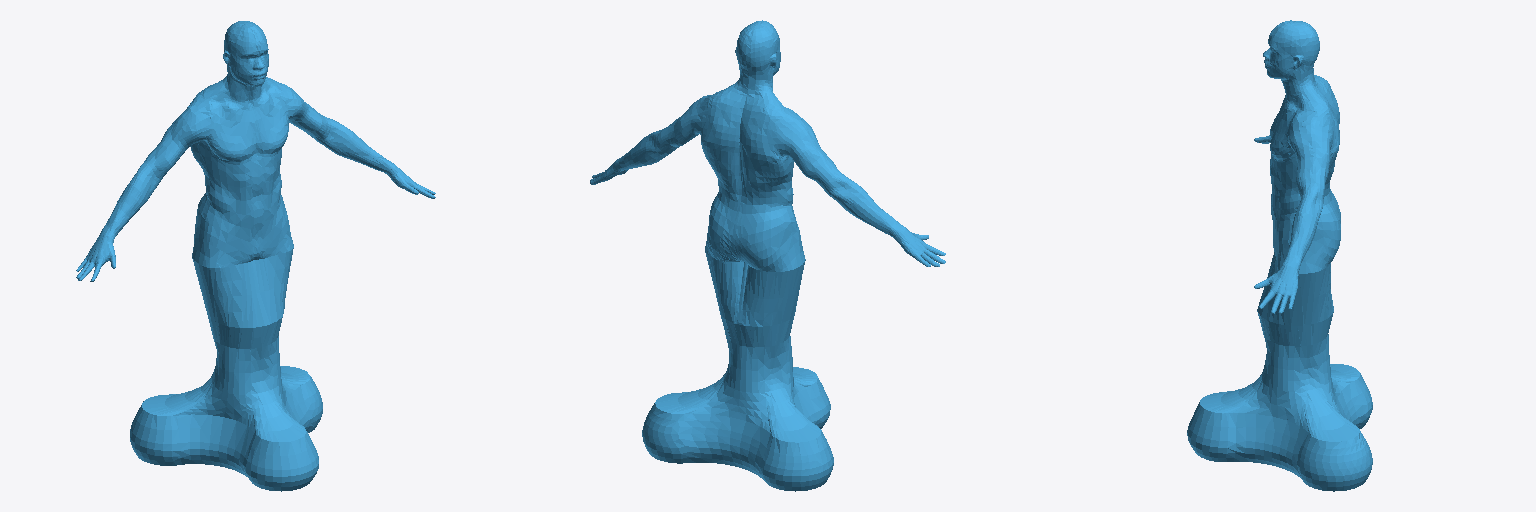
robot.urdf — mecanum_wheeled_robot:
<?xml version="1.0" ?>
<robot name="mecanum_wheeled_robot" >
  <!-- Wheels -->
  <!-- in kg-->
  <!-- Defining the colors used in this robot -->
  <material name="Black">
    <color rgba="0.0 0.0 0.0 1.0"/>
  </material>
  <material name="Red">
    <color rgba="0.8 0.0 0.0 1.0"/>
  </material>
  <material name="White">
    <color rgba="1.0 1.0 1.0 1.0"/>
  </material>
  <material name="Blue">
    <color rgba="0.0 0.0 0.8 1.0"/>
  </material>
  <material name="base">
   <texture filename="package://thedush_robots/texture/texture2.png"/>
  </material>
   <material name="Wheels1">
   <texture filename="package://thedush_robots/texture/texture6.jpg"/>
  </material>
  <!-- PROPERTY LIST -->
  <!--All units in m-kg-s-radians unit system -->
  <!-- Main body radius and height -->
  <!-- Main Body Cylinder base   -->
  <!-- in kg-->
  <!-- caster wheel radius and height -->
  <!-- caster wheel mass -->
  <!-- in kg-->
  <!-- caster wheel radius and height -->
  <!-- caster wheel mass -->
  <!-- in kg-->
  <!-- Wheels -->
 
 
  <!-- in kg-->
  <!-- Hokuyo Laser scanner -->
  <!-- Macro for calculating inertia of cylinder -->
  <!-- BASE-FOOTPRINT -->
  <!-- base_footprint is a fictitious link(frame) that is on the ground right below base_link origin -->
  <link name="base_footprint">
    <inertial>
      <mass value="0.0001"/>
      <origin xyz="0 0 0"/>
      <inertia ixx="0.0001" ixy="0.0" ixz="0.0" iyy="0.0001" iyz="0.0" izz="0.0001"/>
    </inertial>
    <visual>
      <origin rpy="0 0 0" xyz="0 0 0"/>
      <geometry>
        <box size="0.001 0.001 0.001"/>
      </geometry>
    </visual>
  </link>
  <gazebo reference="base_footprint">
    <turnGravityOff>false</turnGravityOff>
  </gazebo>
  <joint name="base_footprint_joint" type="fixed">
    <origin rpy="0 0 0" xyz="0 0 0.04"/>
    <parent link="base_footprint"/>
    <child link="base_link"/>
  </joint>
  <!-- BASE-LINK -->
  <!--Actual body/chassis of the robot-->
  <link name="base_link">
    <inertial>
      <mass value="5"/>
      <origin xyz="0 0 0"/>
      <!--The 3x3 rotational inertia matrix. -->
      <inertia ixx="0.0282916666667" ixy="0" ixz="0" iyy="0.0282916666667" iyz="0" izz="0.05625"/>
    </inertial>
    <visual>
      <origin rpy="1.57079632679 0 0" xyz="0 0 1.06"/>
      <geometry>
       <mesh
          filename="package://thedush_robots/meshes/robot_case/humanoid.STL" />
      </geometry>
      <material name="base"/>
    </visual>
    <collision>
      <origin rpy="1.57079632679 0 0 " xyz="0 0 0"/>
      <geometry>
        <mesh
          filename="package://thedush_robots/meshes/robot_case/humanoid.STL" />
      </geometry>
    </collision>
  </link>
  <gazebo reference="base_link">
    <material>Gazebo/White</material>
    <turnGravityOff>false</turnGravityOff>
  </gazebo>
  


 
  <link name="hokuyo_link">
    <visual>
      <origin rpy="0 0 -1.57079632679" xyz="0 0 0"/>
      <geometry>
        <mesh
          filename="package://thedush_robots/meshes/sensors/xtion_pro_live.dae"/>
    
       <!--  <box size="0.05 0.05 0.05"/> -->
      </geometry>
      <material name="Blue"/>
    </visual>
  </link>
  <joint name="hokuyo_joint" type="fixed">
    <origin rpy="0 0 0" xyz="-0.0105844026 -0.1992884281278 0.2348214078"/>
    <parent link="base_link"/>
    <child link="hokuyo_link"/>
  </joint>
  <gazebo reference="hokuyo_link">
    <material>Gazebo/Blue</material>
    <turnGravityOff>false</turnGravityOff>
    <sensor name="head_hokuyo_sensor" type="ray">
      <pose>0.025 0 0 0 0 0</pose>
      <visualize>false</visualize>
      <update_rate>40</update_rate>
      <ray>
        <scan>
          <horizontal>
            <samples>720</samples>
            <resolution>1</resolution>
            <min_angle>-1.570796</min_angle>
            <max_angle>1.570796</max_angle>
          </horizontal>
        </scan>
        <range>
          <min>0.10</min>
          <max>10.0</max>
          <resolution>0.001</resolution>
        </range>
      </ray>
      <plugin filename="libgazebo_ros_laser.so" name="gazebo_ros_head_hokuyo_controller">
        <topicName>/scan</topicName>
        <frameName>hokuyo_link</frameName>
      </plugin>
    </sensor>
  </gazebo>



  <!-- Differential drive controller  -->
  <gazebo>
    <plugin filename="libgazebo_ros_diff_drive.so" name="differential_drive_controller_front">
      <rosDebugLevel>Debug</rosDebugLevel>
      <publishWheelTF>True</publishWheelTF>
      <publishTf>1</publishTf>
      <publishWheelJointState>true</publishWheelJointState>
      <alwaysOn>true</alwaysOn>
      <updateRate>100.0</updateRate>
      <leftJoint>front_left_wheel_joint</leftJoint>
      <rightJoint>front_right_wheel_joint</rightJoint>
      <wheelSeparation>0.3</wheelSeparation>
      <wheelDiameter>0.08</wheelDiameter>
      <broadcastTF>1</broadcastTF>
      <wheelTorque>30</wheelTorque>
      <wheelAcceleration>1.8</wheelAcceleration>
      <commandTopic>cmd_vel</commandTopic>
      <odometryFrame>odom</odometryFrame>
      <odometryTopic>odom</odometryTopic>
      <robotBaseFrame>base_link</robotBaseFrame>
    </plugin>
  </gazebo>
  <!--
	  <gazebo>
	    <plugin name="kobuki_controller" filename="libgazebo_ros_kobuki.so">
	      <publish_tf>1</publish_tf>
	      <left_wheel_joint_name>front_left_wheel_joint</left_wheel_joint_name>
	      <right_wheel_joint_name>front_right_wheel_joint</right_wheel_joint_name>
	      <wheel_separation>.30</wheel_separation>
	      <wheel_diameter>0.08</wheel_diameter>
	      <torque>30.0</torque>
	      <velocity_command_timeout>0.6</velocity_command_timeout>


	    </plugin>
	  </gazebo>

-->
  <!--
<gazebo>
    <plugin name="gazebo_ros_control" filename="libgazebo_ros_control.so" />
    <plugin filename="libgazebo_ros_joint_state_publisher.so" name="joint_state_publisher">
      <jointName>front_right_wheel_joint, front_left_wheel_joint</jointName>
      <updateRate>10.0</updateRate>
      <alwaysOn>true</alwaysOn>
    </plugin>
</gazebo>
-->
</robot>

--- What the picture shows (computed from the rendered views, not written in the file) ---
Views: 3 orthographic renders of the robot side by side, from view 1: azimuth 30°, elevation 25°; view 2: azimuth 150°, elevation 25°; view 3: azimuth 270°, elevation 25°.
Model mecanum_wheeled_robot with 3 links and 2 joints (2 fixed), rooted at base_footprint, posed all joints at 0.
Links seen in each view (by area): view 1: base_link; view 2: base_link; view 3: base_link.
Boxes of the visible links, bbox=[...] form: base_link: bbox=[76, 21, 435, 491]; base_link: bbox=[590, 20, 945, 491]; base_link: bbox=[1187, 20, 1372, 491].
Bounding box of the posed robot: 1.59 × 0.7232 × 1.84 m (x, y, z).
Meshes: 2 distinct files referenced, 1 mesh visuals loaded (1 binary STL); not drawn: 1 (reference not matched to a file when rendering).
